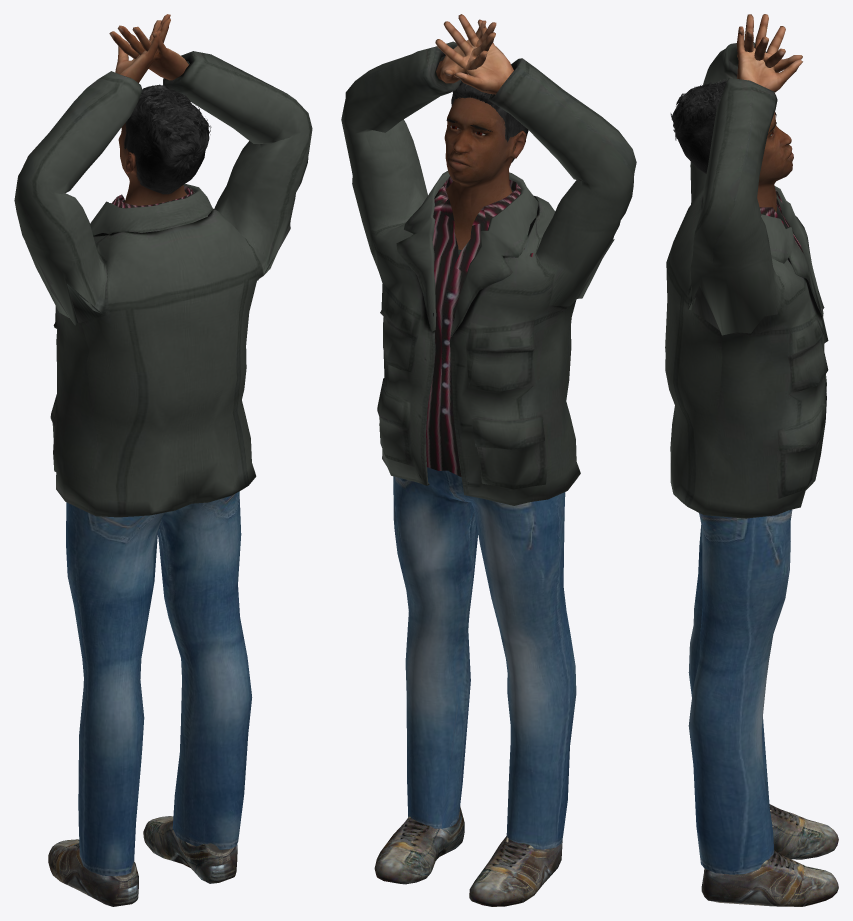
File: exasperated_1.gltf
The picture shows the model from 3 angles, left to right: view 1: azimuth 30°, elevation 25°; view 2: azimuth 150°, elevation 25°; view 3: azimuth 270°, elevation 25°; orthographic projection.
Visible parts, largest first — view 1: exasperated; view 2: exasperated; view 3: exasperated.
Part boxes in pixels (bbox=[...]): exasperated: bbox=[14, 14, 312, 906]; exasperated: bbox=[341, 14, 636, 906]; exasperated: bbox=[665, 14, 838, 906].
Bounding box in the file's own units: 0.6923 × 1.96 × 0.3622.
6 materials, 6 textured.
